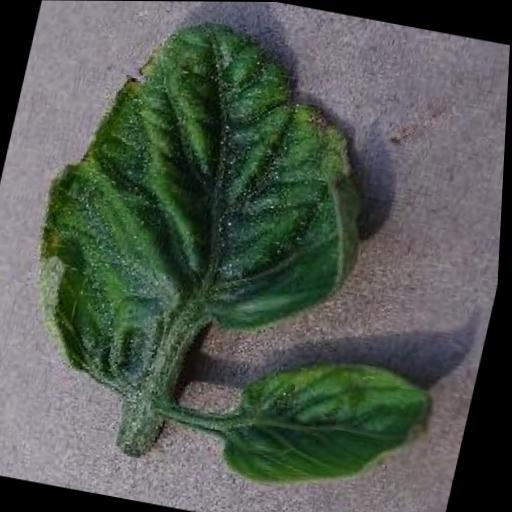Yellow Leaf Curl Virus: (12, 0, 402, 416), (214, 342, 444, 506)
